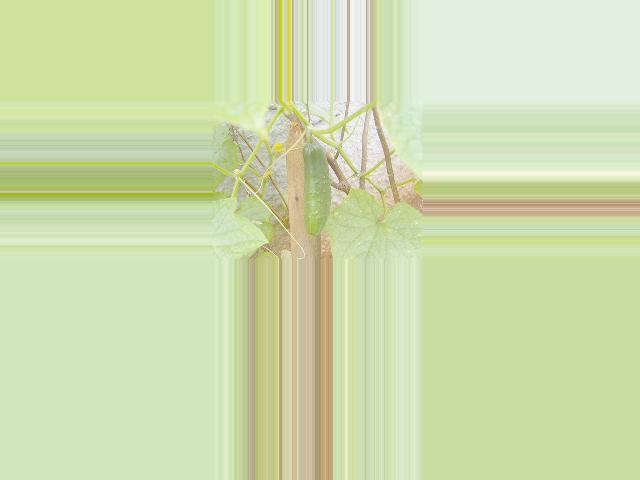cucumber: (301, 141, 330, 236)
